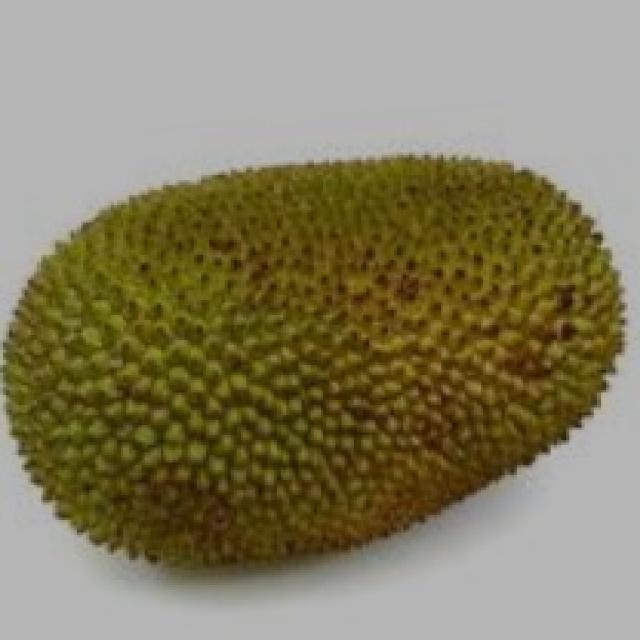Fruit: (3, 168, 425, 620), (240, 123, 640, 415)
